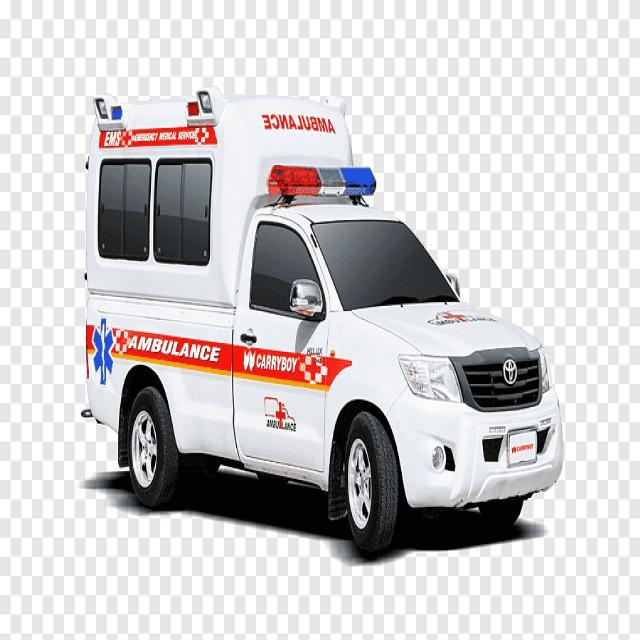emergency-vehicle: (67, 65, 586, 563)
